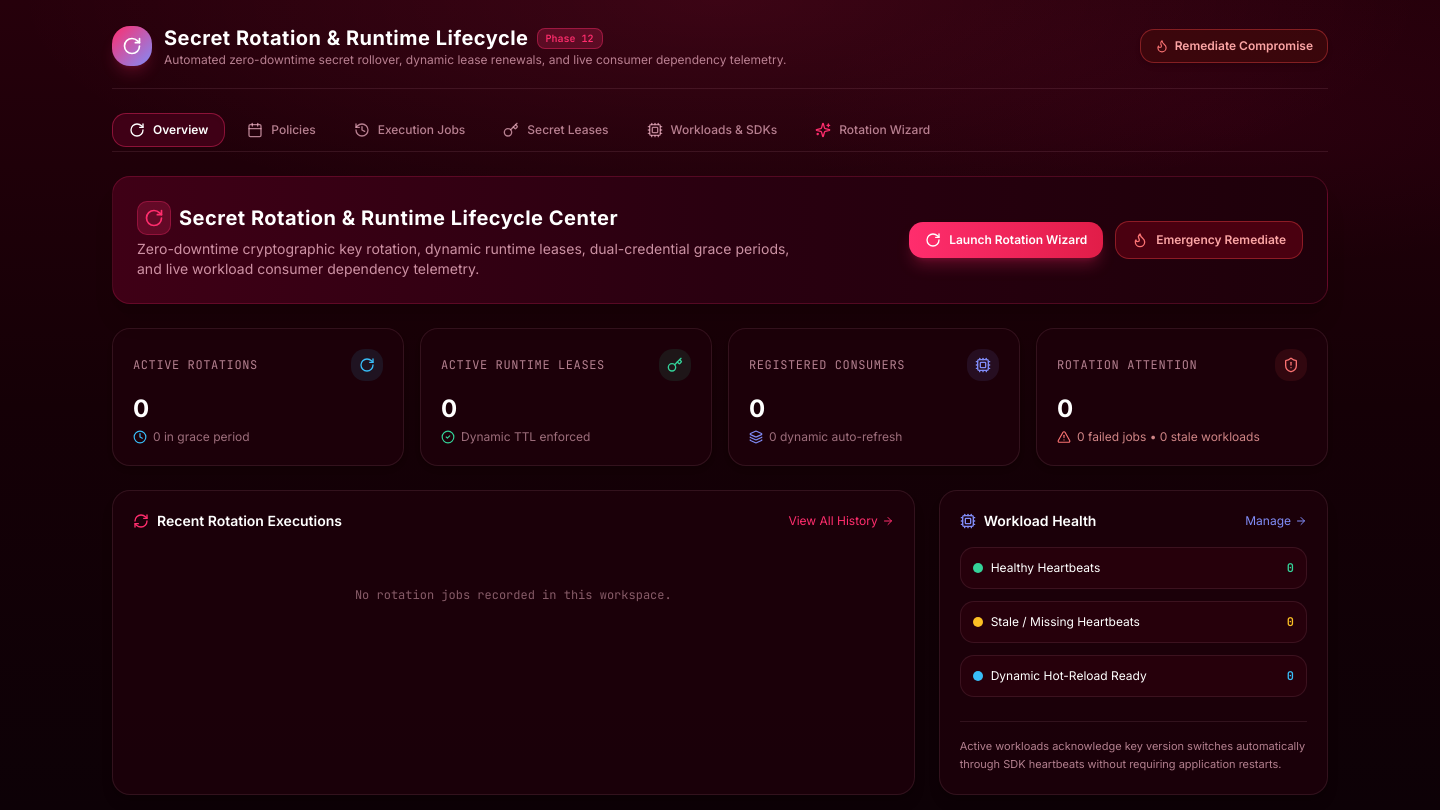
Scenario: RotationCenterView: Rotation Center & Runtime Lifecycle › switches to Workloads & SDKs tab and displays consumer registry with heartbeats
Click the button "Workloads & SDKs": (712, 130) [630,114,793,146]
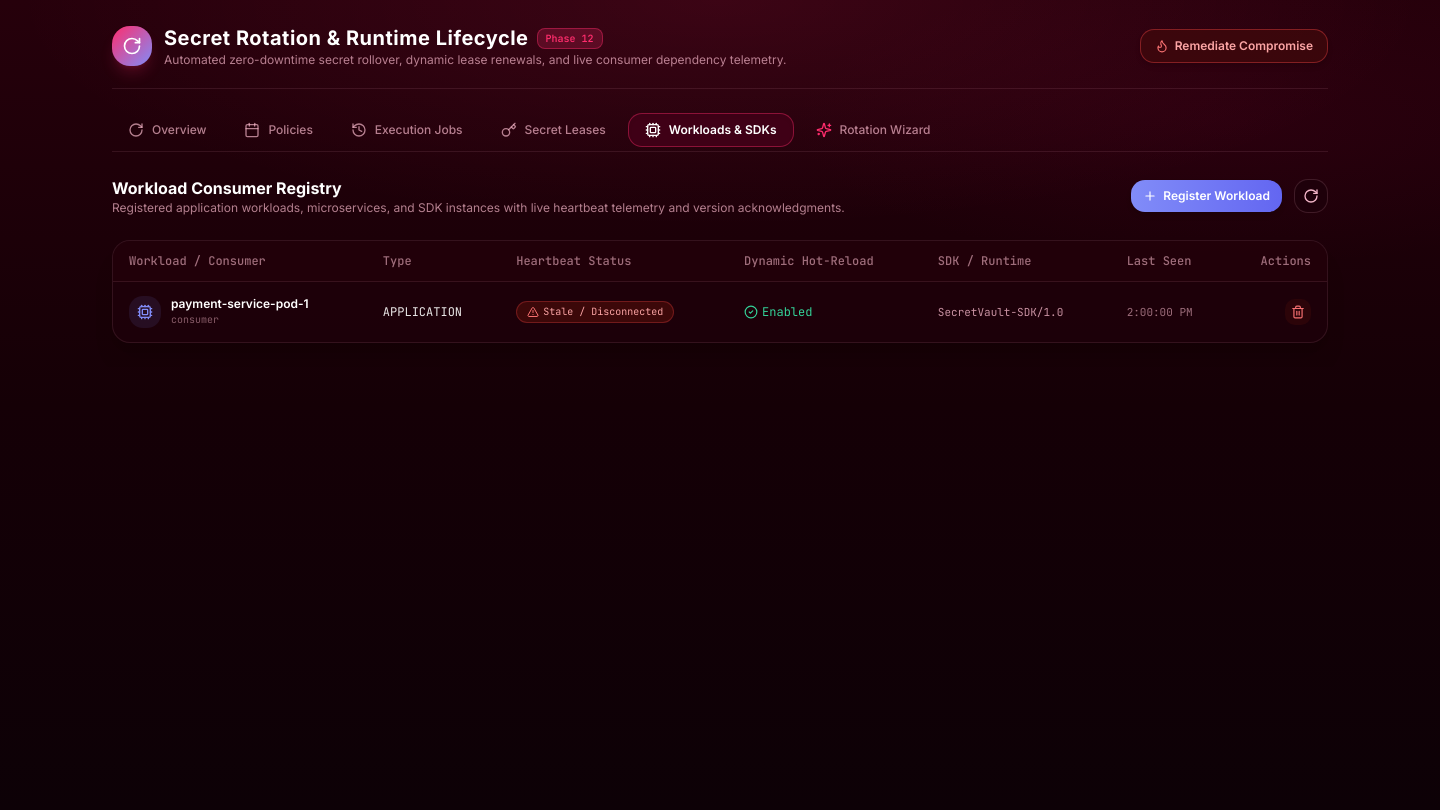
Expected: the heading "Workload Consumer Registry" is shown, [112,178,342,198]
